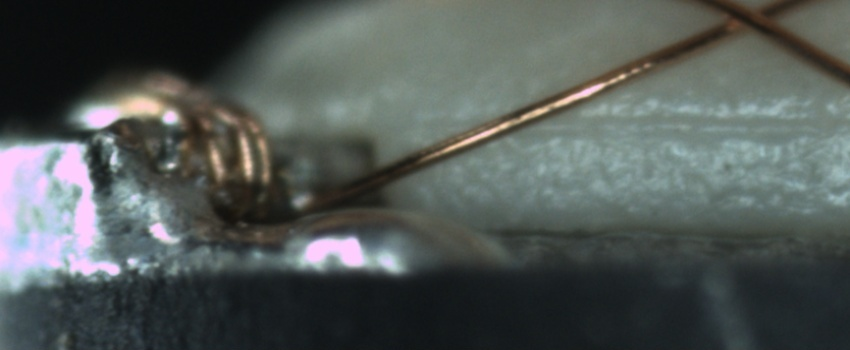CL: (703, 0, 787, 43)
DL: (420, 96, 850, 158)
TE: (62, 62, 287, 213)
